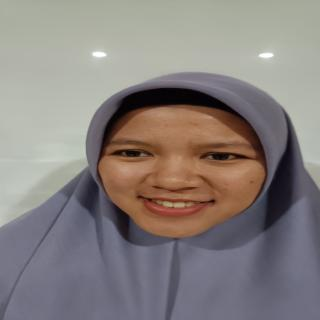Senang: (92, 89, 276, 250)
